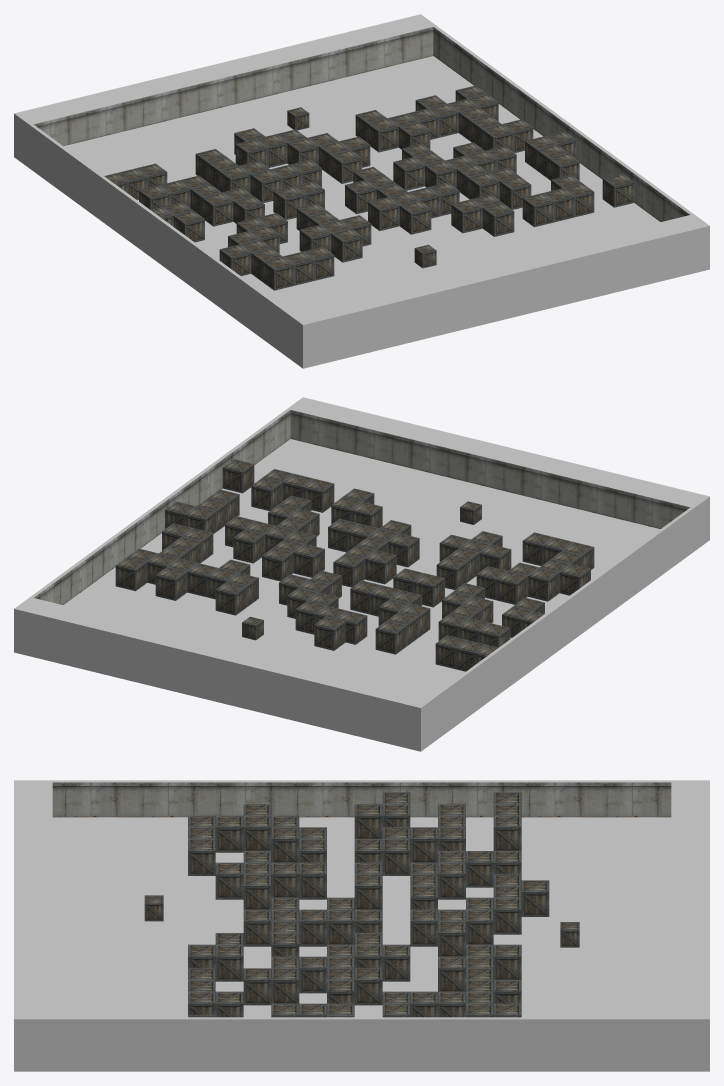
The model's file is map_light.obj.
3 renders of one model, top to bottom at view 1: azimuth 30°, elevation 25°; view 2: azimuth 150°, elevation 25°; view 3: azimuth 270°, elevation 25°, orthographic. The views are drawn at different scales.
Parts seen in each view (by area): view 1: worldspawn_4541, worldspawn_4621, worldspawn_4600, worldspawn_4579, worldspawn_4593, worldspawn_3874, worldspawn_3753, worldspawn_3781, worldspawn_3718, worldspawn_3577, worldspawn_3563, worldspawn_3881 (+28 smaller); view 2: worldspawn_4541, worldspawn_4600, worldspawn_4621, worldspawn_4579, worldspawn_4593, worldspawn_3874, worldspawn_3781, worldspawn_3718, worldspawn_3549, worldspawn_3577, worldspawn_3669, worldspawn_3809 (+28 smaller); view 3: worldspawn_4541, worldspawn_4593, worldspawn_4579, worldspawn_4600, worldspawn_4621, worldspawn_3577, worldspawn_3718, worldspawn_3690, worldspawn_3683, worldspawn_3903, worldspawn_3874, worldspawn_3549 (+32 smaller).
Boxes of the visible parts, x1,y1,x2,y2 form: worldspawn_4541: [63, 56, 660, 312]; worldspawn_4621: [287, 214, 709, 368]; worldspawn_4600: [14, 14, 436, 168]; worldspawn_4579: [30, 124, 290, 356]; worldspawn_4593: [433, 26, 693, 221]; worldspawn_3874: [367, 94, 498, 152]; worldspawn_3753: [522, 183, 594, 227]; worldspawn_3781: [368, 182, 459, 230]; worldspawn_3718: [228, 231, 294, 290]; worldspawn_3577: [296, 203, 362, 262]; worldspawn_3563: [250, 159, 321, 202]; worldspawn_3881: [458, 107, 513, 151]; worldspawn_4541: [63, 439, 660, 695]; worldspawn_4600: [14, 597, 436, 751]; worldspawn_4621: [287, 397, 709, 551]; worldspawn_4579: [433, 507, 693, 739]; worldspawn_4593: [30, 409, 290, 604]; worldspawn_3874: [128, 548, 258, 606]; worldspawn_3781: [328, 518, 419, 567]; worldspawn_3718: [528, 542, 594, 601]; worldspawn_3549: [375, 603, 430, 654]; worldspawn_3577: [436, 531, 502, 589]; worldspawn_3669: [295, 601, 367, 644]; worldspawn_3809: [185, 489, 239, 533]; worldspawn_4541: [52, 817, 671, 1017]; worldspawn_4593: [52, 1017, 671, 1071]; worldspawn_4579: [52, 780, 671, 817]; worldspawn_4600: [671, 780, 709, 1071]; worldspawn_4621: [14, 780, 52, 1071]; worldspawn_3577: [215, 862, 326, 899]; worldspawn_3718: [188, 815, 299, 852]; worldspawn_3690: [299, 909, 382, 946]; worldspawn_3683: [410, 909, 493, 946]; worldspawn_3903: [327, 944, 410, 981]; worldspawn_3874: [466, 944, 493, 1017]; worldspawn_3549: [438, 851, 521, 887].
Bounding box in the file's own units: 18.72 × 1.92 × 23.04.
Materials: 4 (2 with a texture image).
